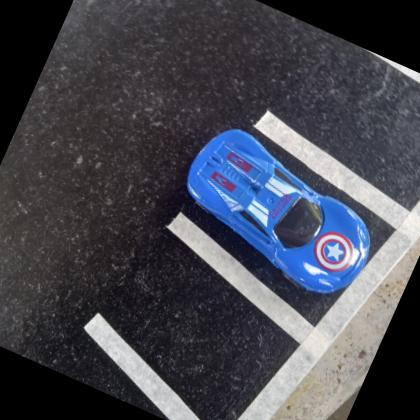Car: (186, 129, 371, 296)
